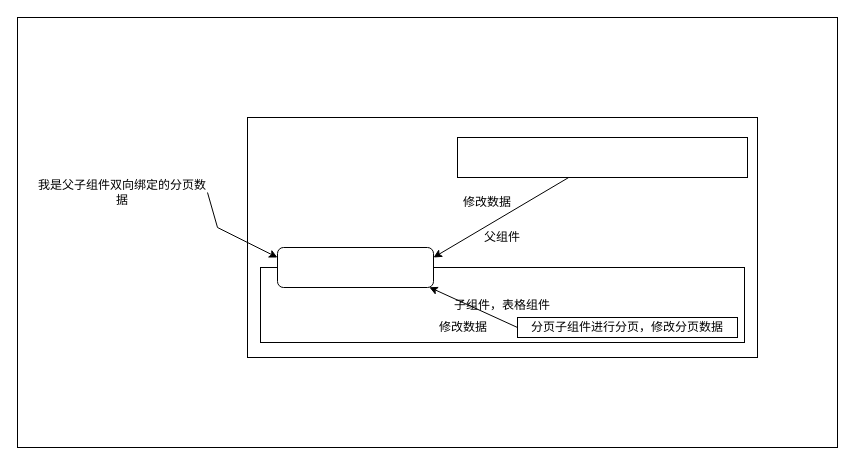
This 855x465 diagram has some shape labels left out. The centre of each missing label's shape, as x and y in pixels:
:pageData="pageData": (355,267)
父组件进行数据请求，拿到表格数据和分页数据: (602,157)
